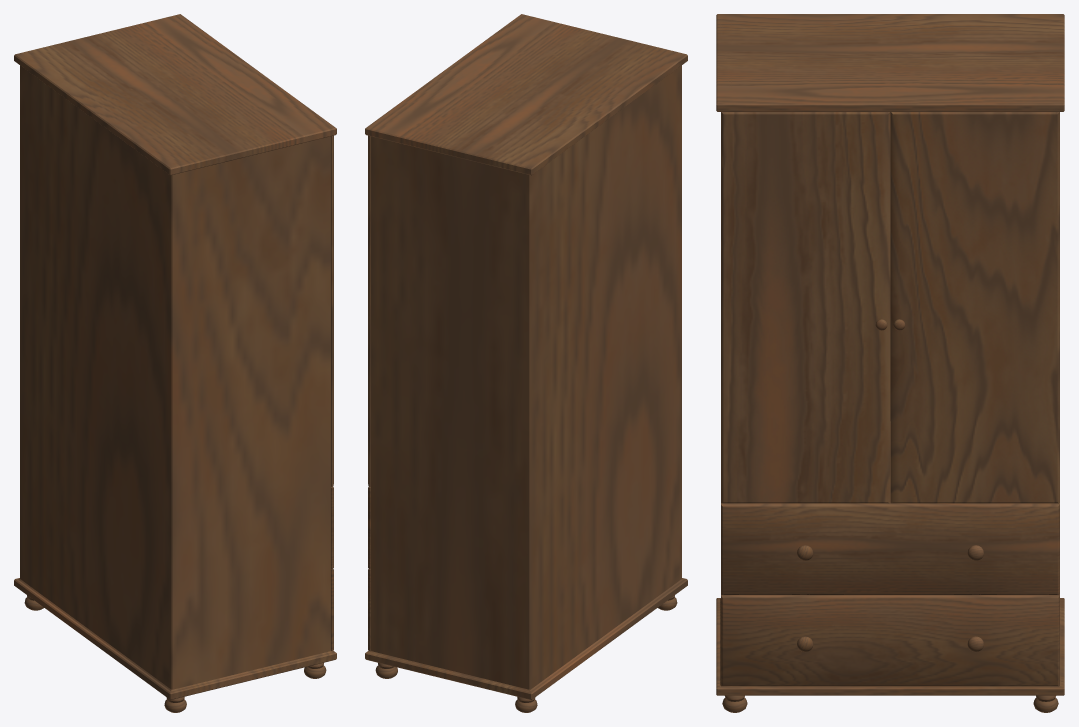
File: wardrobe1.obj
3 views of the same model, side by side, from view 1: azimuth 30°, elevation 25°; view 2: azimuth 150°, elevation 25°; view 3: azimuth 270°, elevation 25° (orthographic). The views are drawn at different scales.
Visible parts, largest first — view 1: Cube.037; view 2: Cube.037; view 3: Cube.037.
Boxes of the visible parts, box(x1,y1,x2,y2) form: Cube.037: box(14, 14, 336, 712); Cube.037: box(365, 14, 687, 712); Cube.037: box(716, 14, 1064, 712).
Size of the model in its own units: 0.6728 by 1.99 by 1.02.
